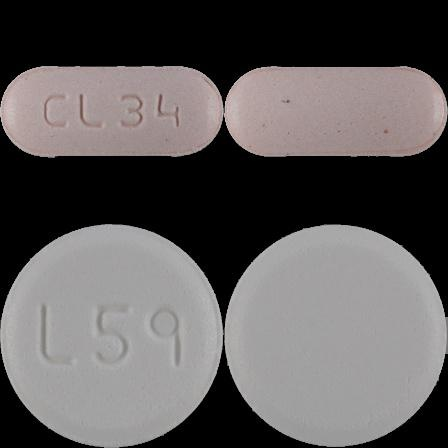33342-088: (0, 0, 224, 224)
